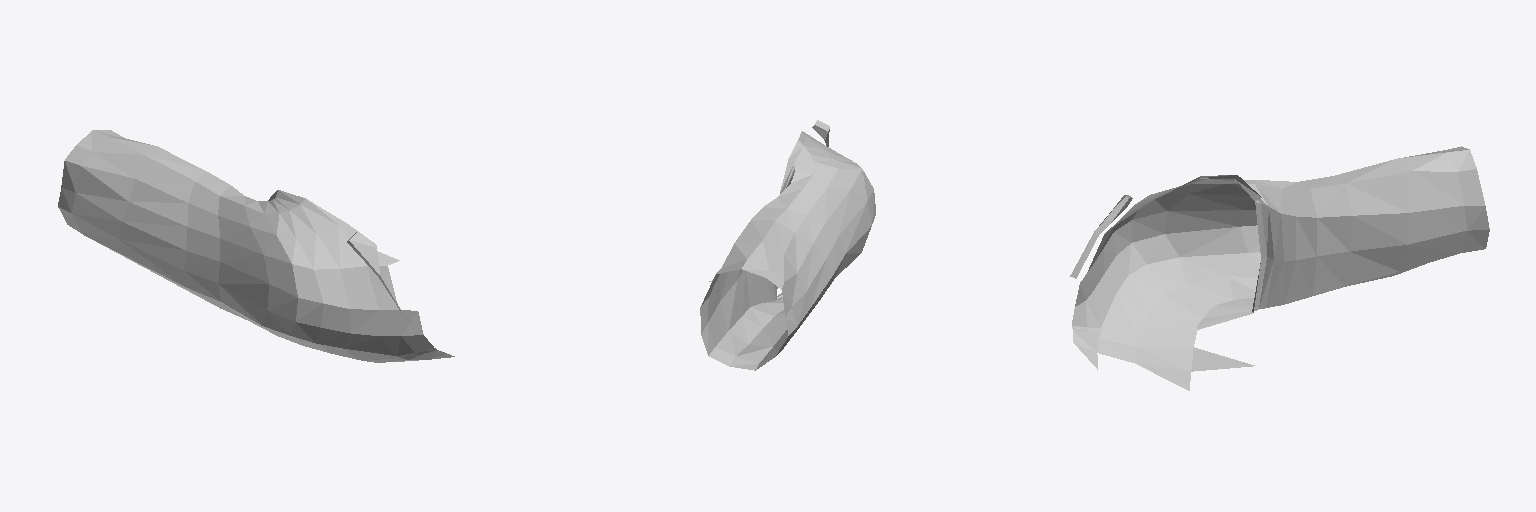
The model's file is l_upperarm.obj.
The picture shows the model from 3 angles: view 1: azimuth 30°, elevation 25°; view 2: azimuth 150°, elevation 25°; view 3: azimuth 270°, elevation 25°; orthographic projection.
Parts seen in each view (by area): view 1: zoey_color_bmp_004_zoey_color_bmp.004; view 2: zoey_color_bmp_004_zoey_color_bmp.004; view 3: zoey_color_bmp_004_zoey_color_bmp.004.
Part boxes in pixels (x1,y1,x2,y2): zoey_color_bmp_004_zoey_color_bmp.004: (58,130,454,362); zoey_color_bmp_004_zoey_color_bmp.004: (700,120,875,370); zoey_color_bmp_004_zoey_color_bmp.004: (1070,146,1489,390).
Size of the model in its own units: 0.1724 by 0.1272 by 0.2866.